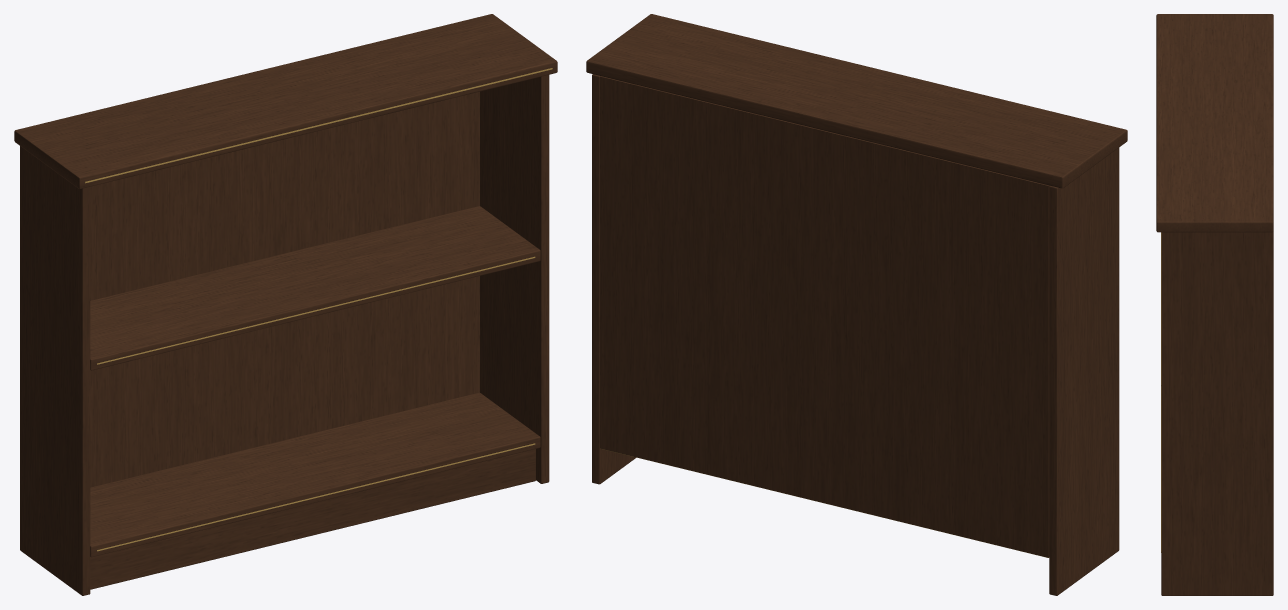
The model's file is SM_FS_Shelf.glb.
The picture shows the model from 3 angles, left to right: view 1: azimuth 30°, elevation 25°; view 2: azimuth 150°, elevation 25°; view 3: azimuth 270°, elevation 25°; orthographic projection. The views are drawn at different scales.
Parts seen in each view (by area): view 1: SM_FS_Shelf; view 2: SM_FS_Shelf; view 3: SM_FS_Shelf.
Boxes of the visible parts, x1,y1,x2,y2 form: SM_FS_Shelf: (14,14,557,595); SM_FS_Shelf: (586,14,1127,595); SM_FS_Shelf: (1156,14,1273,595).
Bounding box in the file's own units: 1.23 × 1.04 × 0.2924.
1 material, 1 textured.
